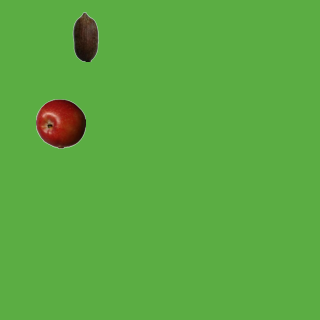Apple Braeburn: (35, 98, 85, 148)
Nut Pecan: (60, 11, 110, 61)
